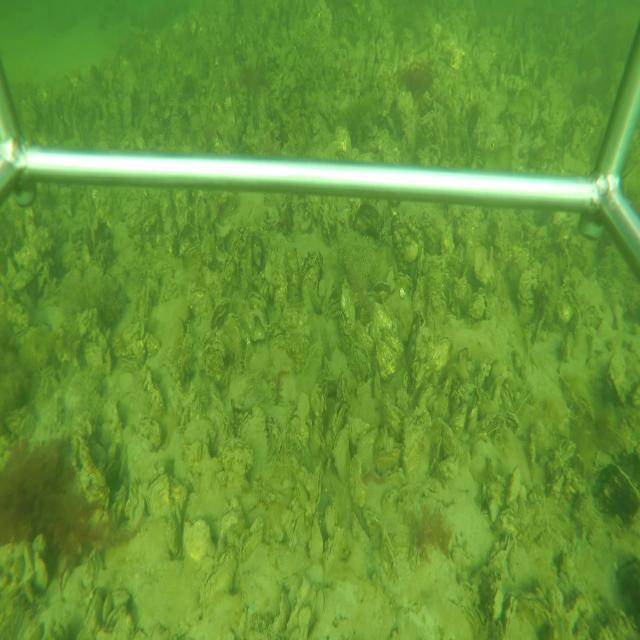Oyster-Closed: (200, 543, 237, 619), (402, 408, 432, 484), (408, 310, 433, 386), (236, 402, 270, 456), (218, 502, 248, 545), (277, 410, 301, 462), (147, 472, 173, 519), (201, 332, 226, 380), (480, 534, 512, 571), (332, 426, 351, 486), (357, 424, 378, 476), (323, 526, 342, 582), (380, 525, 399, 581), (79, 585, 100, 634), (340, 280, 356, 338), (308, 460, 323, 520), (269, 584, 287, 634), (285, 509, 306, 551), (349, 342, 370, 379), (489, 585, 503, 624), (501, 381, 516, 413), (293, 479, 307, 511), (417, 383, 435, 407), (394, 272, 413, 293)
Oyster-Open: (331, 398, 349, 437)
